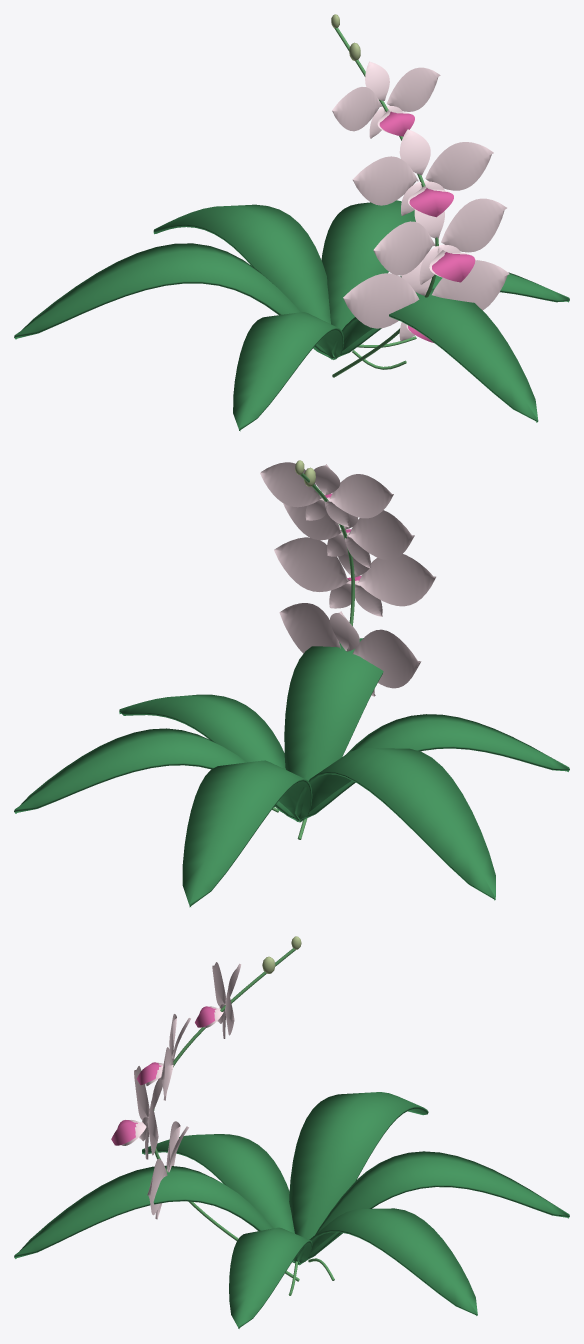
File: flower.glb
3 renders of one model, top to bottom at view 1: azimuth 30°, elevation 25°; view 2: azimuth 150°, elevation 25°; view 3: azimuth 270°, elevation 25°, orthographic. The views are drawn at different scales.
Parts seen in each view (by area): view 1: Leaf_1, Leaf_0, Leaf_3, Leaf_2, Bloom_2, Leaf_5, Bloom_1, Bloom_0, Bloom_3, Leaf_4, BloomLip_1, BloomLip_2 (+2 smaller); view 2: Leaf_1, Leaf_0, Leaf_3, Leaf_5, Bloom_1, Leaf_2, Leaf_4, Bloom_0, Bloom_3, Bloom_2, Spike; view 3: Leaf_1, Leaf_3, Leaf_0, Leaf_5, Leaf_2, Leaf_4, Bloom_1, Bloom_3, Bloom_0, Bloom_2, Spike.
Boxes of the visible parts, x1=… form: Leaf_1: x1=14, y1=243, x2=331, y2=359; Leaf_0: x1=153, y1=204, x2=330, y2=323; Leaf_3: x1=331, y1=288, x2=538, y2=422; Leaf_2: x1=233, y1=312, x2=343, y2=431; Bloom_2: x1=352, y1=129, x2=493, y2=215; Leaf_5: x1=321, y1=200, x2=415, y2=330; Bloom_1: x1=373, y1=198, x2=506, y2=284; Bloom_0: x1=343, y1=259, x2=509, y2=341; Bloom_3: x1=332, y1=61, x2=440, y2=138; Leaf_4: x1=339, y1=272, x2=569, y2=356; BloomLip_1: x1=432, y1=252, x2=475, y2=282; BloomLip_2: x1=409, y1=188, x2=453, y2=217; Leaf_1: x1=295, y1=748, x2=495, y2=900; Leaf_0: x1=182, y1=760, x2=312, y2=907; Leaf_3: x1=284, y1=638, x2=383, y2=780; Leaf_5: x1=14, y1=728, x2=297, y2=821; Bloom_1: x1=274, y1=537, x2=435, y2=616; Leaf_2: x1=303, y1=714, x2=569, y2=818; Leaf_4: x1=119, y1=694, x2=285, y2=769; Bloom_0: x1=279, y1=603, x2=421, y2=696; Bloom_3: x1=260, y1=462, x2=393, y2=527; Bloom_2: x1=283, y1=503, x2=414, y2=567; Spike: x1=297, y1=473, x2=354, y2=839; Leaf_1: x1=289, y1=1092, x2=428, y2=1239; Leaf_3: x1=14, y1=1165, x2=295, y2=1261; Leaf_0: x1=306, y1=1151, x2=569, y2=1260; Leaf_5: x1=297, y1=1208, x2=477, y2=1315; Leaf_2: x1=142, y1=1134, x2=294, y2=1233; Leaf_4: x1=229, y1=1227, x2=312, y2=1328; Bloom_1: x1=121, y1=1066, x2=162, y2=1159; Bloom_3: x1=203, y1=962, x2=241, y2=1038; Bloom_0: x1=147, y1=1121, x2=188, y2=1219; Bloom_2: x1=145, y1=1014, x2=190, y2=1100; Spike: x1=154, y1=948, x2=299, y2=1281.
Bounding box in the file's own units: 2.11 × 1.6 × 2.33.
